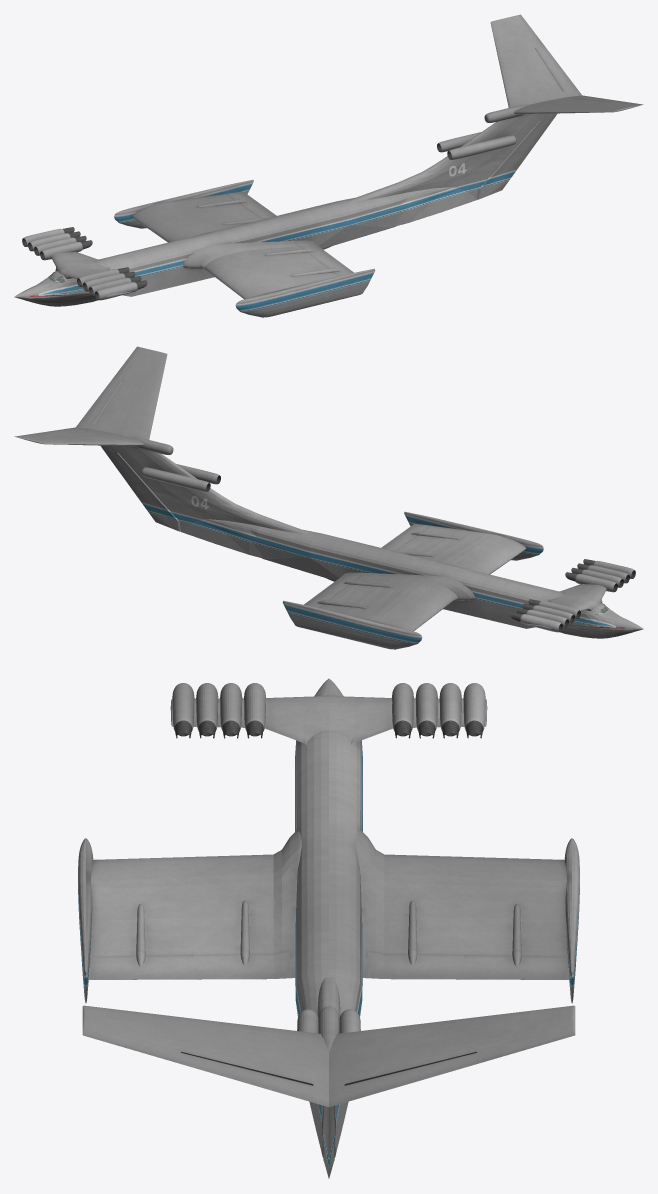
3 views of the same model, one above another, from view 1: azimuth 30°, elevation 25°; view 2: azimuth 150°, elevation 25°; view 3: azimuth 270°, elevation 25° (orthographic). The views are drawn at different scales.
Parts seen in each view (by area): view 1: fuselage_fuselage.mesh, ailes_ailes.mesh, derive_derive.mesh, flotteurs_flotteurs.mesh, moteurs_moteurs.mesh, direction_direction.mesh, supportmoteur_supportmoteur.mesh, coque_coque.mesh, profondeurD_profondeurD.mesh; view 2: fuselage_fuselage.mesh, ailes_ailes.mesh, derive_derive.mesh, flotteurs_flotteurs.mesh, moteurs_moteurs.mesh, direction_direction.mesh, supportmoteur_supportmoteur.mesh, coque_coque.mesh, profondeurG_profondeurG.mesh; view 3: ailes_ailes.mesh, derive_derive.mesh, fuselage_fuselage.mesh, moteurs_moteurs.mesh, supportmoteur_supportmoteur.mesh, flotteurs_flotteurs.mesh, aileronG_aileronG.mesh, aileronD_aileronD.mesh, voletG_voletG.mesh, voletD_voletD.mesh, profondeurG_profondeurG.mesh, profondeurD_profondeurD.mesh (+2 smaller).
Part boxes in pixels (x1,y1,x2,y2): fuselage_fuselage.mesh: [14, 113, 557, 298]; ailes_ailes.mesh: [131, 191, 338, 299]; derive_derive.mesh: [484, 14, 643, 122]; flotteurs_flotteurs.mesh: [114, 179, 375, 317]; moteurs_moteurs.mesh: [23, 132, 515, 300]; direction_direction.mesh: [477, 116, 555, 199]; supportmoteur_supportmoteur.mesh: [51, 252, 131, 297]; coque_coque.mesh: [14, 201, 471, 306]; profondeurD_profondeurD.mesh: [535, 47, 577, 91]; fuselage_fuselage.mesh: [100, 445, 643, 630]; ailes_ailes.mesh: [319, 523, 526, 631]; derive_derive.mesh: [14, 346, 173, 454]; flotteurs_flotteurs.mesh: [282, 511, 543, 649]; moteurs_moteurs.mesh: [142, 464, 634, 632]; direction_direction.mesh: [102, 448, 180, 531]; supportmoteur_supportmoteur.mesh: [526, 584, 606, 629]; coque_coque.mesh: [186, 533, 643, 638]; profondeurG_profondeurG.mesh: [80, 379, 122, 423]; ailes_ailes.mesh: [88, 830, 569, 979]; derive_derive.mesh: [82, 1005, 575, 1107]; fuselage_fuselage.mesh: [295, 678, 362, 1155]; moteurs_moteurs.mesh: [172, 683, 485, 1033]; supportmoteur_supportmoteur.mesh: [170, 695, 487, 744]; flotteurs_flotteurs.mesh: [78, 838, 579, 1003]; aileronG_aileronG.mesh: [90, 950, 193, 979]; aileronD_aileronD.mesh: [464, 950, 567, 979]; voletG_voletG.mesh: [194, 949, 289, 979]; voletD_voletD.mesh: [368, 949, 463, 979]; profondeurG_profondeurG.mesh: [181, 1053, 313, 1102]; profondeurD_profondeurD.mesh: [344, 1053, 476, 1102].
Size of the model in its own units: 104 by 21.67 by 39.94.
